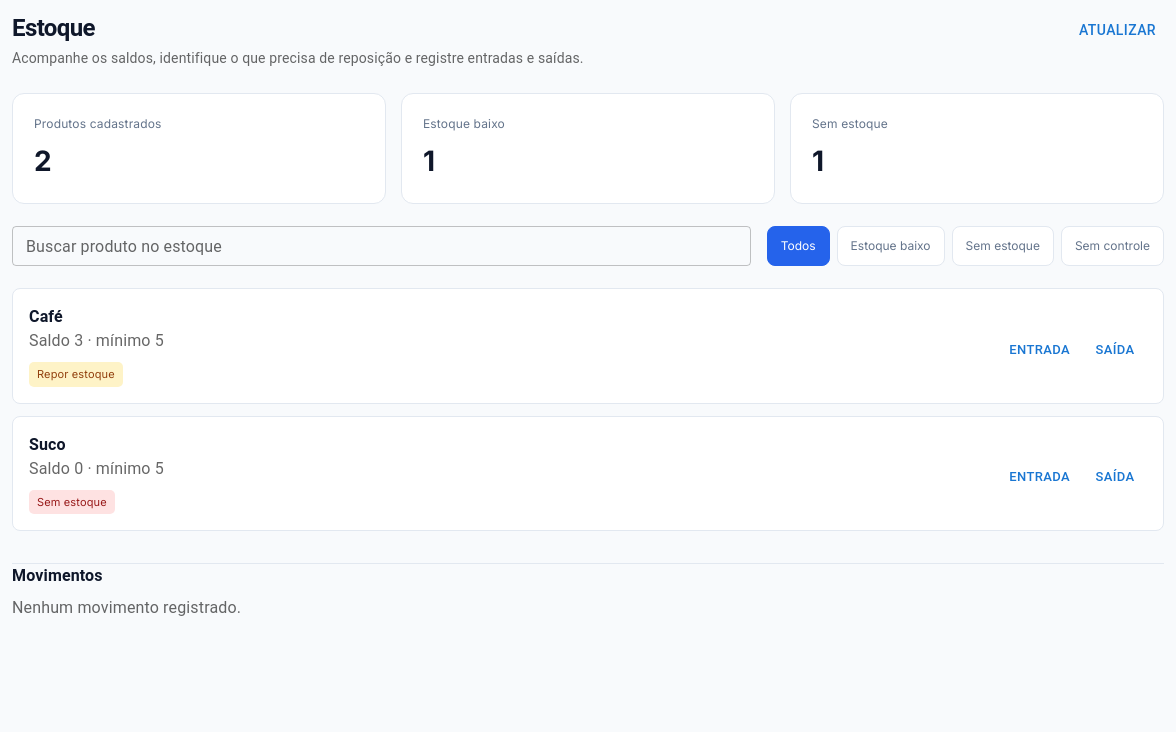
combina busca e filtro sem alterar os saldos
Expected: the text "Café" is shown, [29,307,63,326]
Click the button "Sem estoque": (1003, 246) [952,226,1054,266]
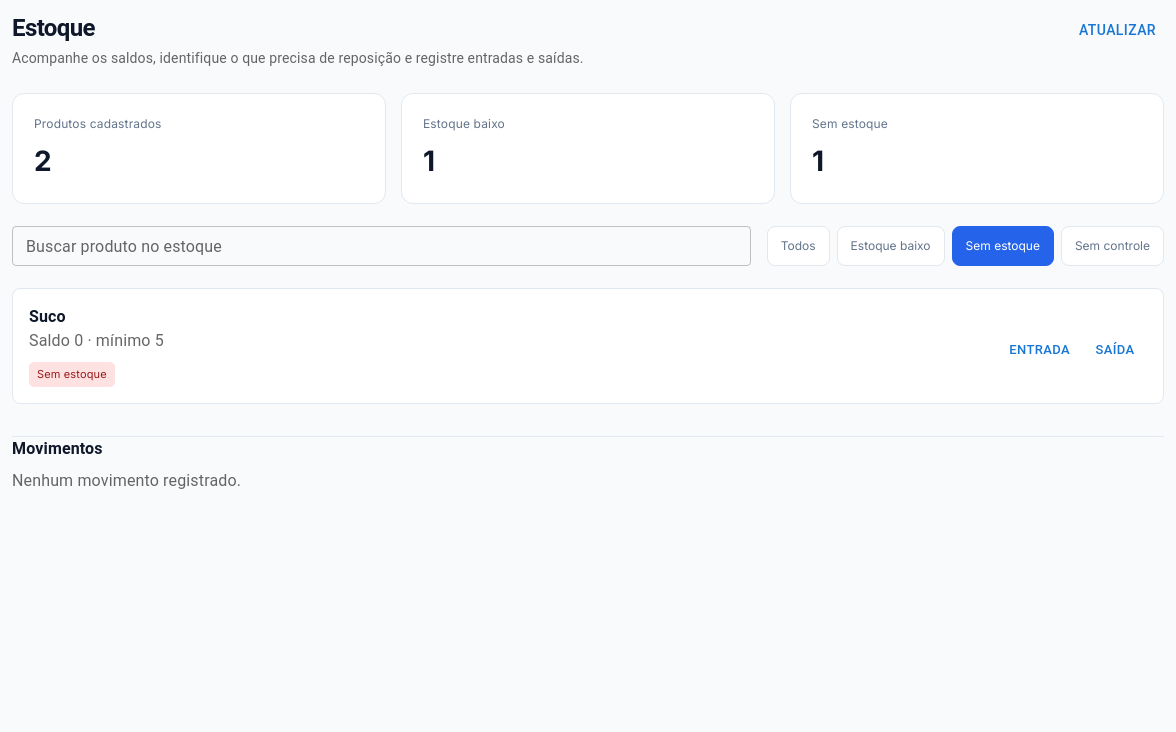
Expected: the text "Suco" is shown, [29,307,66,326]
Expected: the text "Café" is gone
In the field labelled "Buscar produto no estoque": (381, 246) [12,226,751,266], type "café"
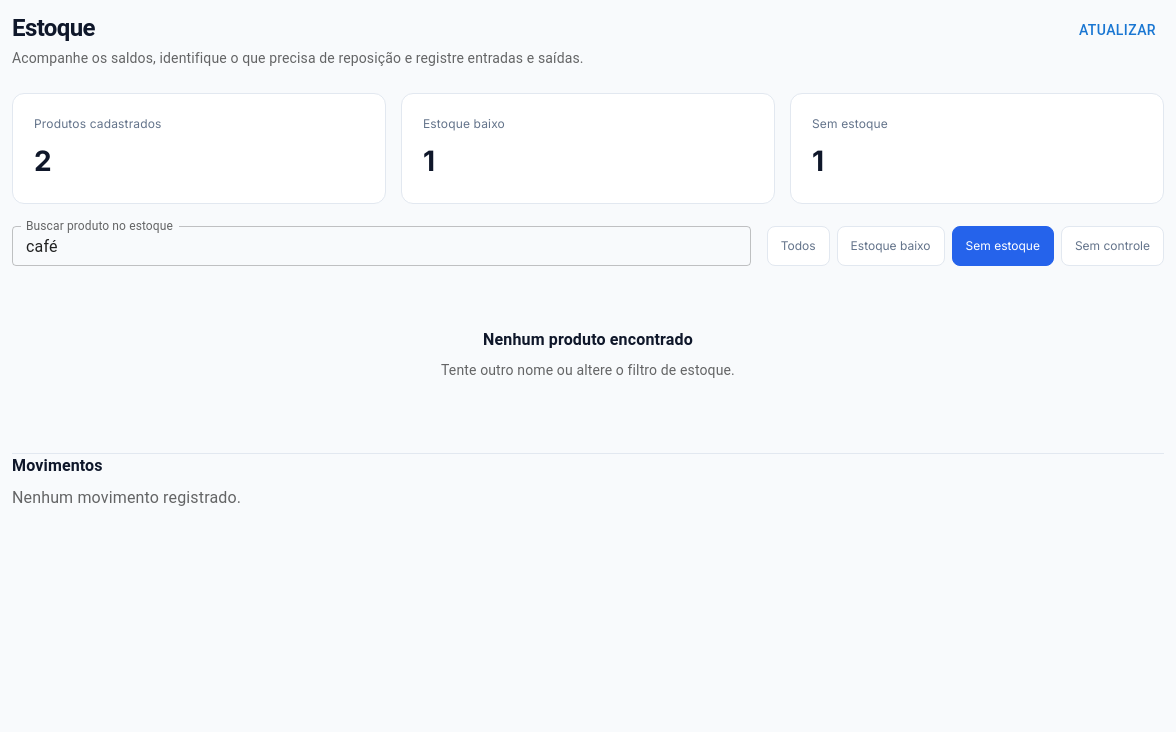
Expected: the heading "Nenhum produto encontrado" is shown, [483,330,693,349]
Click the button "Todos": (798, 246) [767,226,830,266]
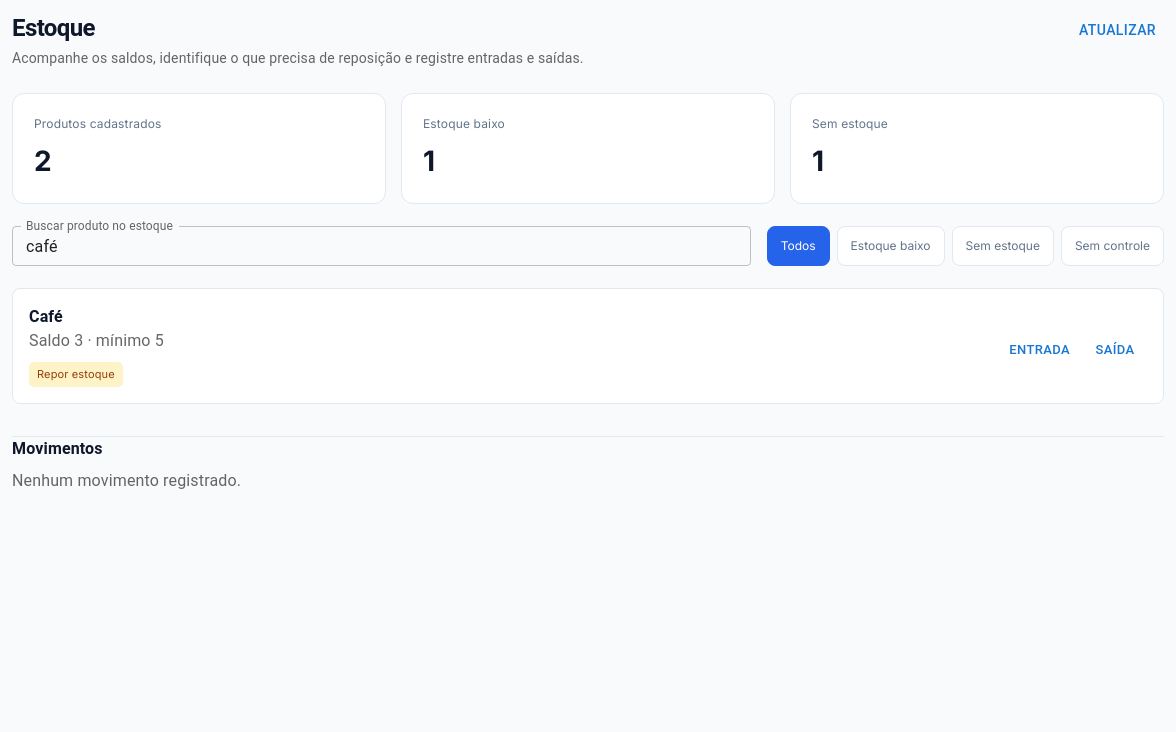
Expected: the text "Café" is shown, [29,307,63,326]
